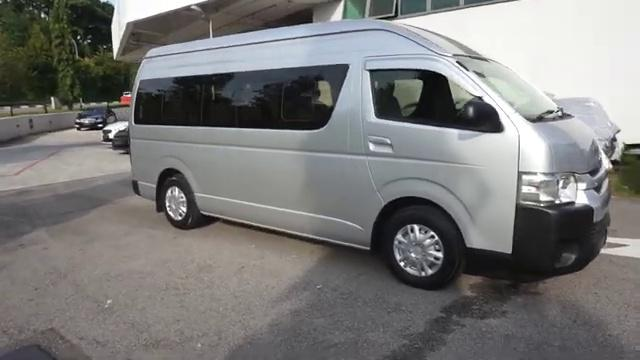Van: (131, 21, 626, 287)
